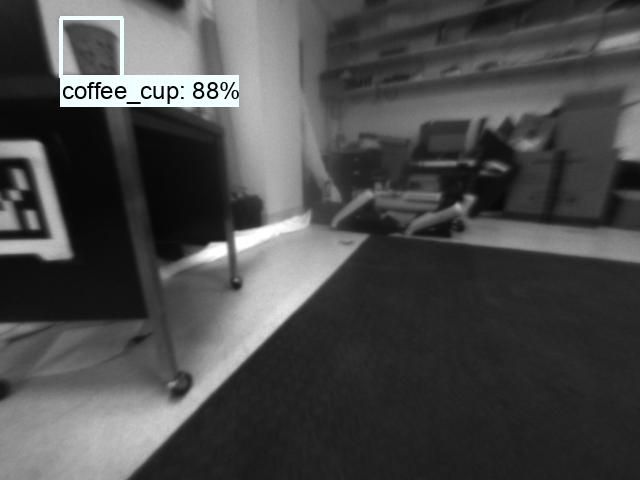coffee_cup: (57, 20, 123, 77)
